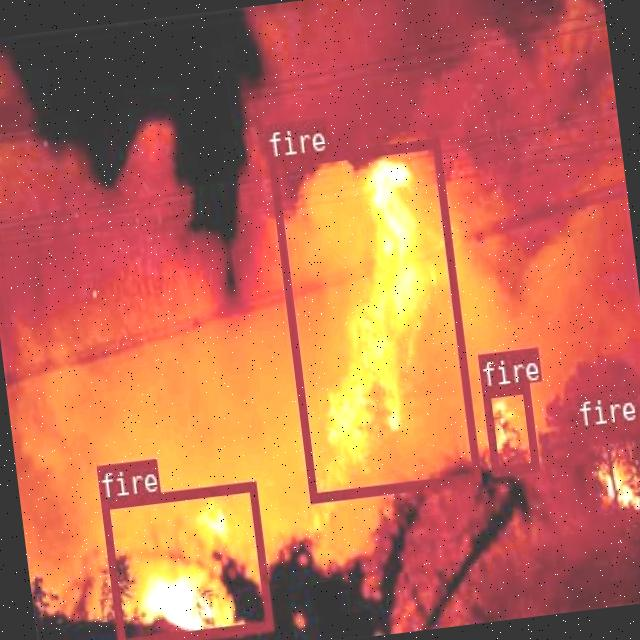fire: (268, 138, 480, 500), (100, 479, 271, 640), (577, 419, 640, 523), (482, 382, 536, 475)
